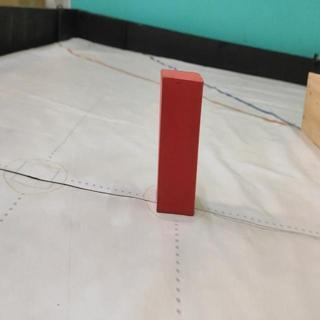redbox: (157, 69, 203, 218)
